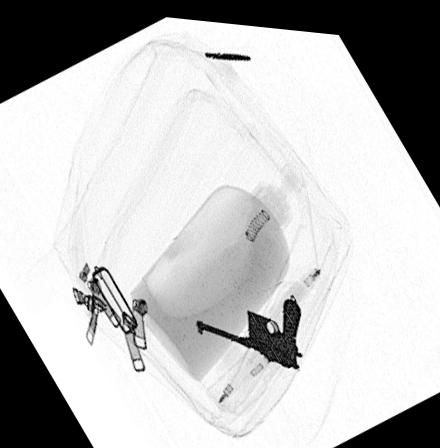Gun: (195, 290, 304, 362)
